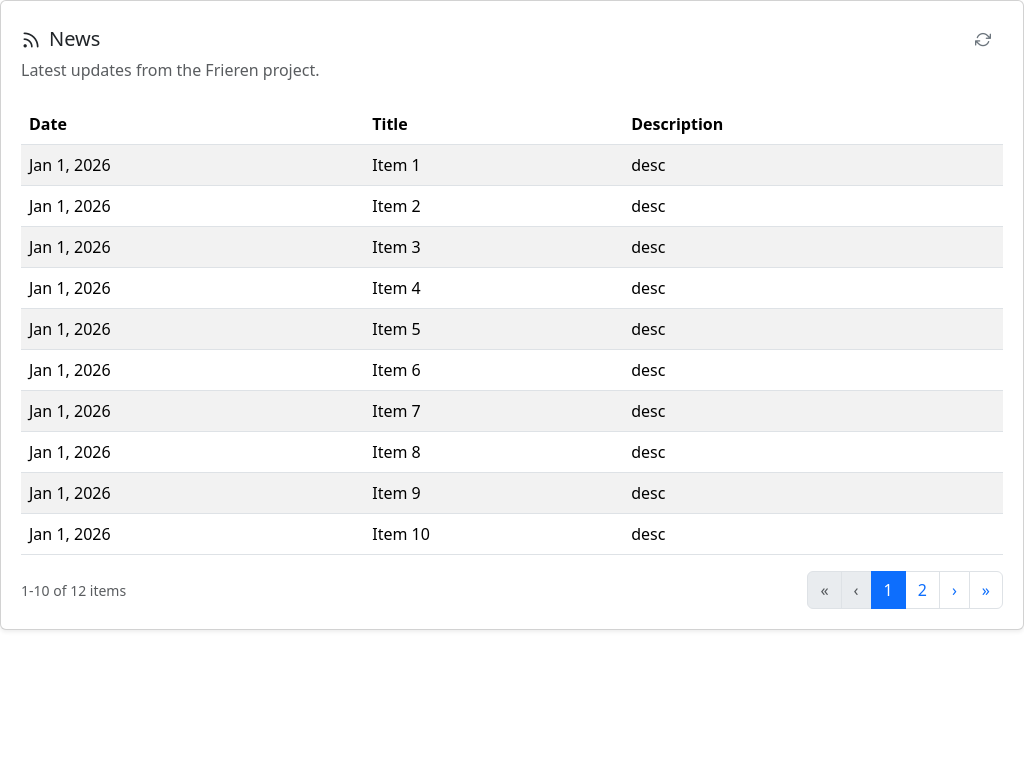
NewsCard › paginates the news list at 10 items per page
Expected: the text "Item 10" is shown, x1=364 y1=514 x2=623 y2=555
Expected: the text "Item 11" is not shown
Click the button "2": (922, 590) x1=905 y1=571 x2=940 y2=609
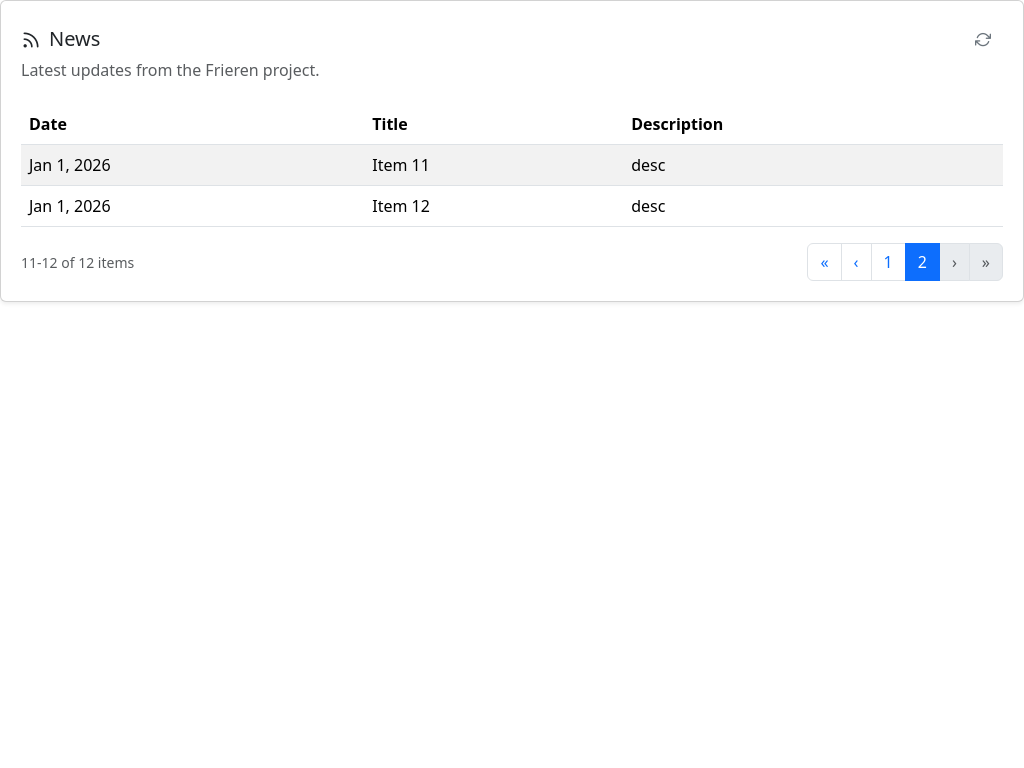
Expected: the text "Item 11" is shown, x1=364 y1=145 x2=623 y2=186
Expected: the text "11-12 of 12 items" is shown, x1=21 y1=252 x2=134 y2=273
